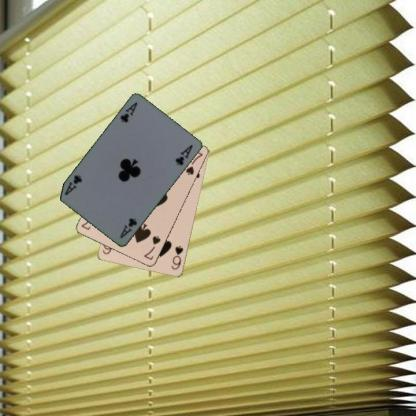6s: (169, 243, 184, 271)
7s: (141, 234, 162, 261)
Ac: (117, 215, 139, 240), (117, 100, 139, 124)
